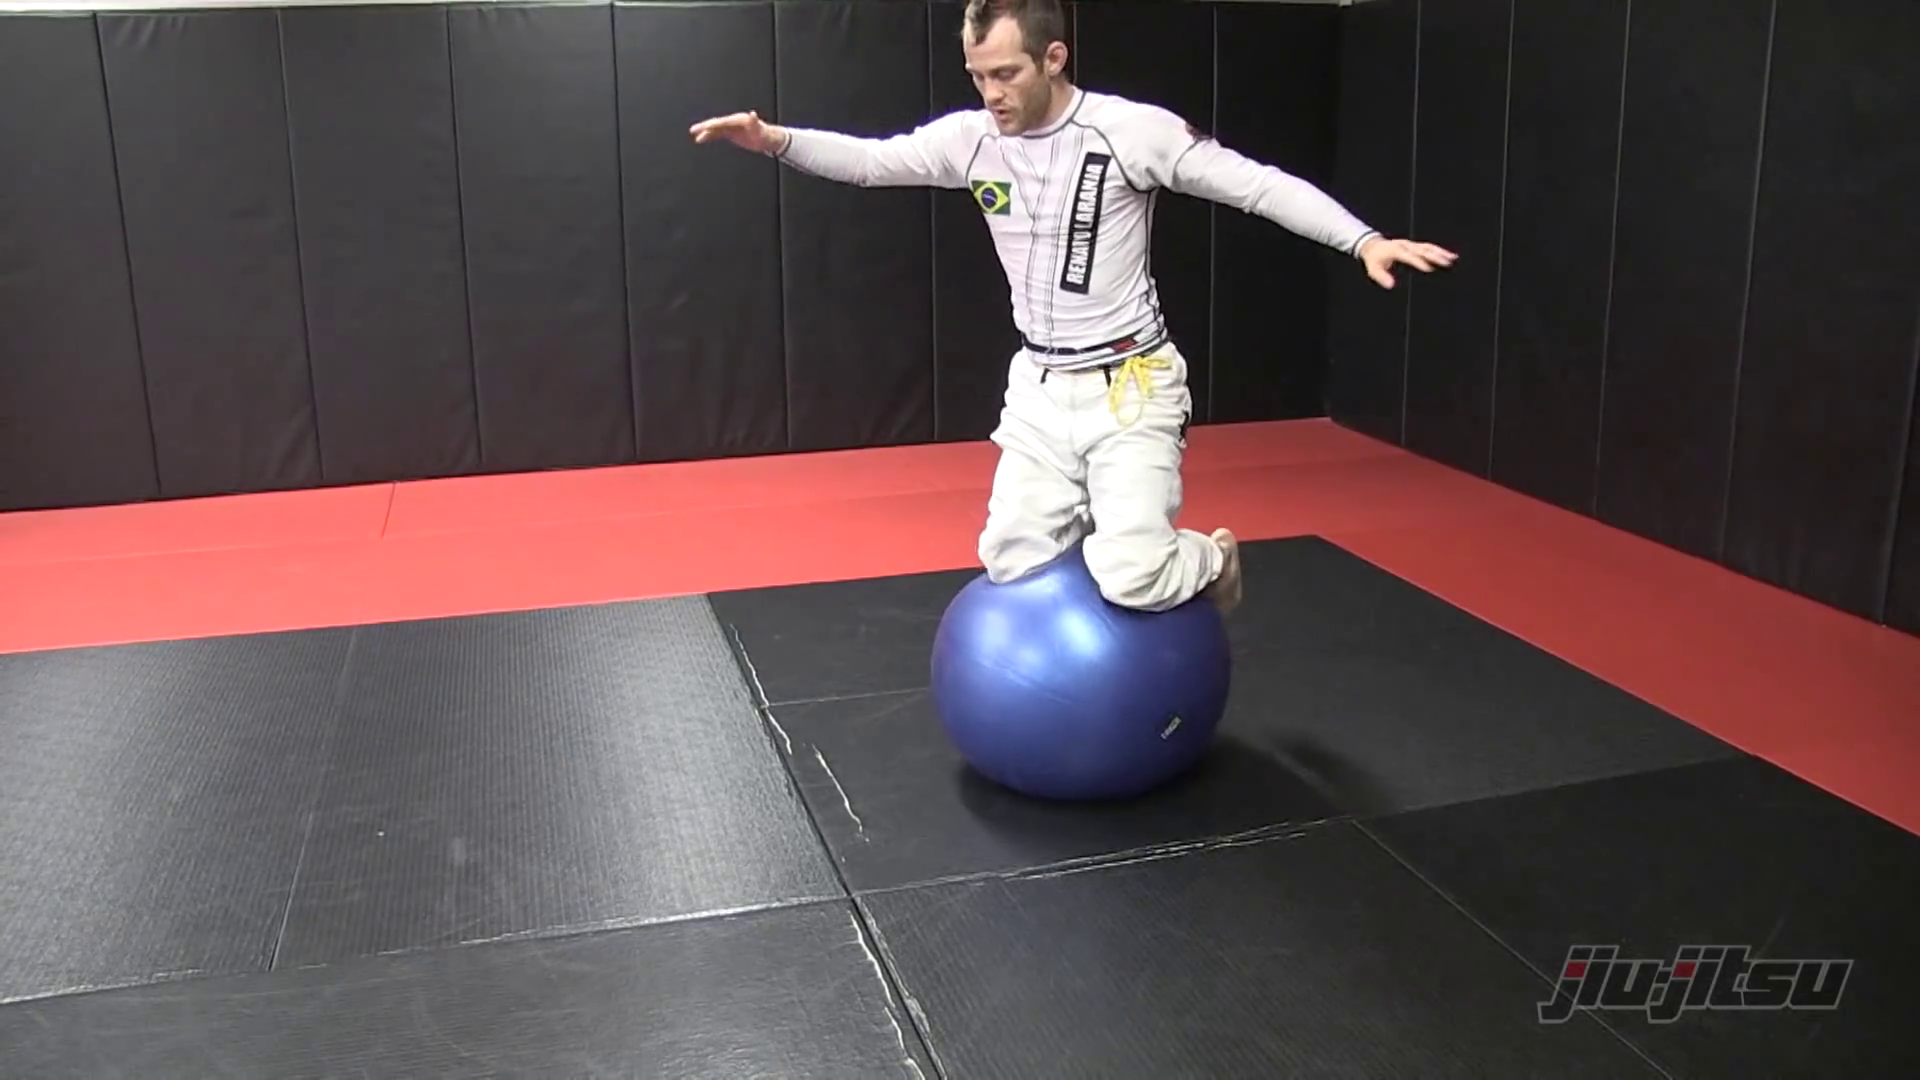yogaball: (909, 546, 1244, 804)
